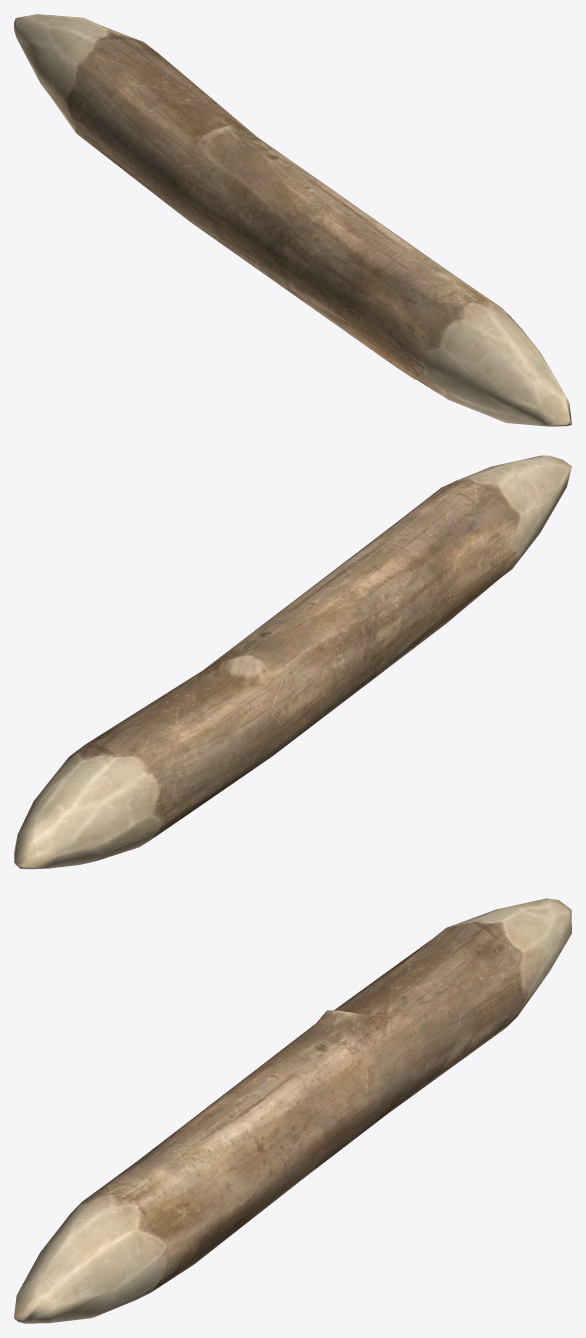
3 renders of one model, top to bottom at view 1: azimuth 30°, elevation 25°; view 2: azimuth 150°, elevation 25°; view 3: azimuth 330°, elevation 25°, orthographic. The views are drawn at different scales.
Visible parts, largest first — view 1: SM_Garou_Set_SM_Log_02_LOD0; view 2: SM_Garou_Set_SM_Log_02_LOD0; view 3: SM_Garou_Set_SM_Log_02_LOD0.
Part boxes in pixels (box(x1,y1,x2,y2)): SM_Garou_Set_SM_Log_02_LOD0: box(14, 14, 571, 426); SM_Garou_Set_SM_Log_02_LOD0: box(14, 455, 571, 869); SM_Garou_Set_SM_Log_02_LOD0: box(14, 898, 571, 1323).
Size of the model in its own units: 0.3569 by 0.4044 by 3.31.
1 material, 1 textured.
